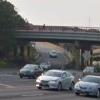Bridge: (11, 18, 100, 55)
